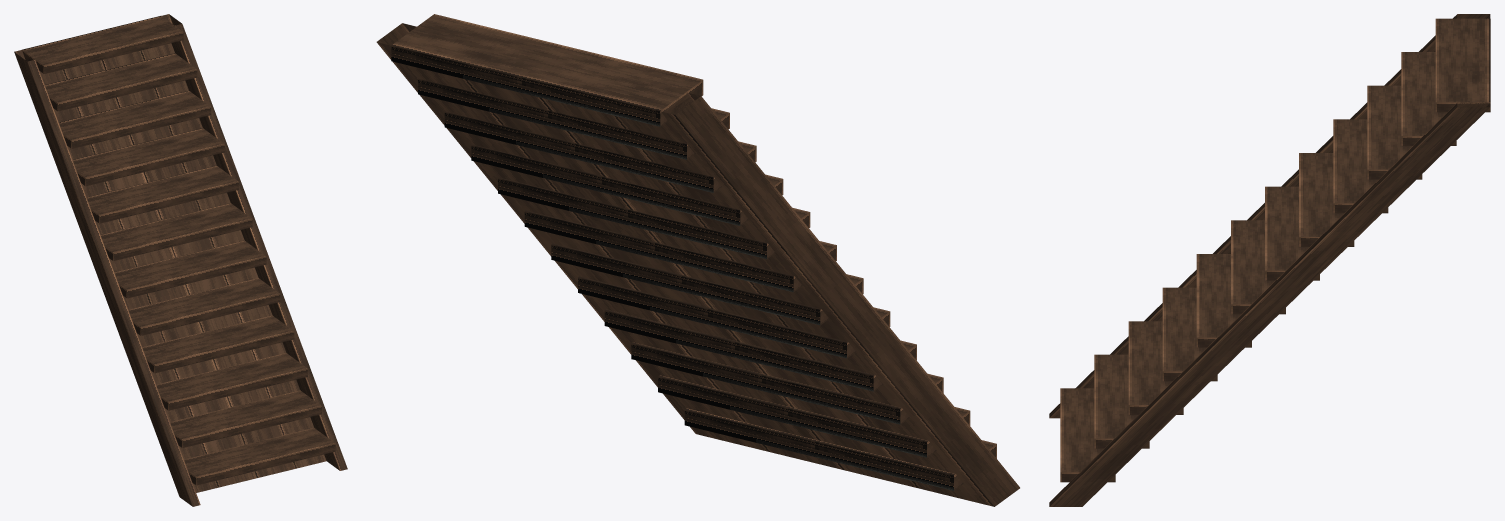
The model's file is house_stairs_2x4.glb.
3 views of the same model, side by side, from view 1: azimuth 30°, elevation 25°; view 2: azimuth 150°, elevation 25°; view 3: azimuth 270°, elevation 25° (orthographic). The views are drawn at different scales.
Parts seen in each view (by area): view 1: house_stairs_2x4; view 2: house_stairs_2x4; view 3: house_stairs_2x4.
Boxes of the visible parts, x1,y1,x2,y2 form: house_stairs_2x4: [14, 14, 347, 506]; house_stairs_2x4: [376, 14, 1019, 506]; house_stairs_2x4: [1049, 14, 1490, 506].
Bounding box in the file's own units: 2 × 4 × 4.
1 material, 1 textured.
